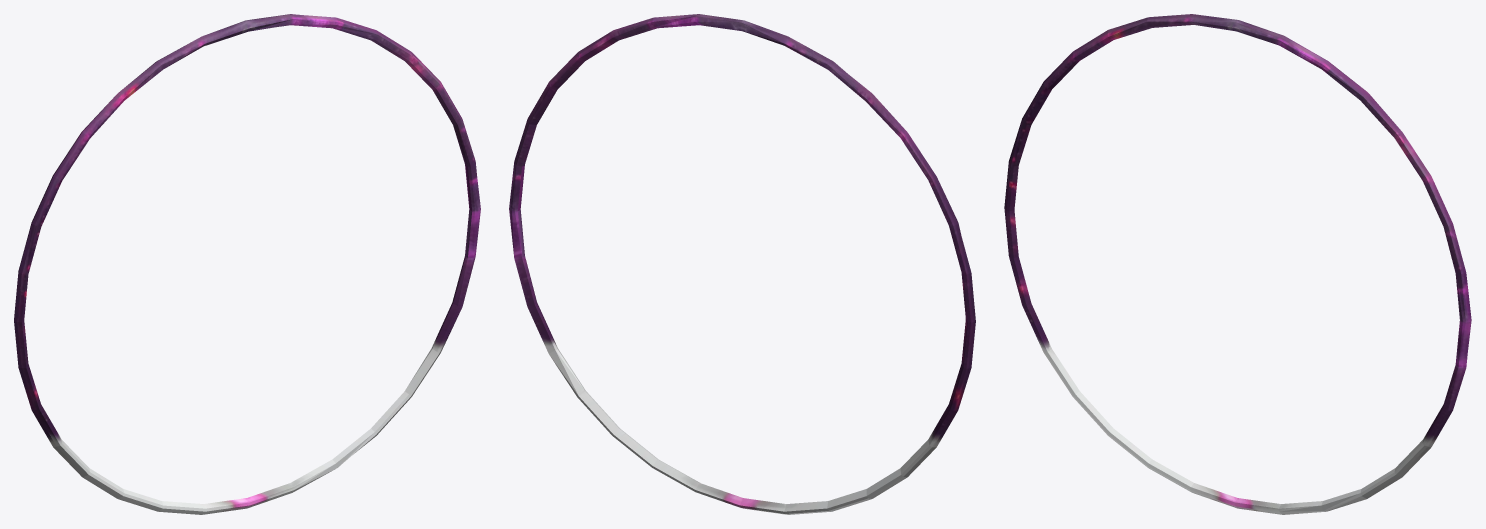
Rendered from crown-halo-texture-wrap-2026-05-14T23-31-40-865Z.medium.glb.
3 views of the same model, side by side, from view 1: azimuth 30°, elevation 25°; view 2: azimuth 150°, elevation 25°; view 3: azimuth 330°, elevation 25° (orthographic).
Visible parts, largest first — view 1: GLTF; view 2: GLTF; view 3: GLTF.
Boxes of the visible parts, <box> form: GLTF: <box>14,14,480,514</box>; GLTF: <box>509,14,975,514</box>; GLTF: <box>1004,14,1471,514</box>.
Size of the model in its own units: 84.59 by 84.59 by 1.84.
1 material, 1 textured.
